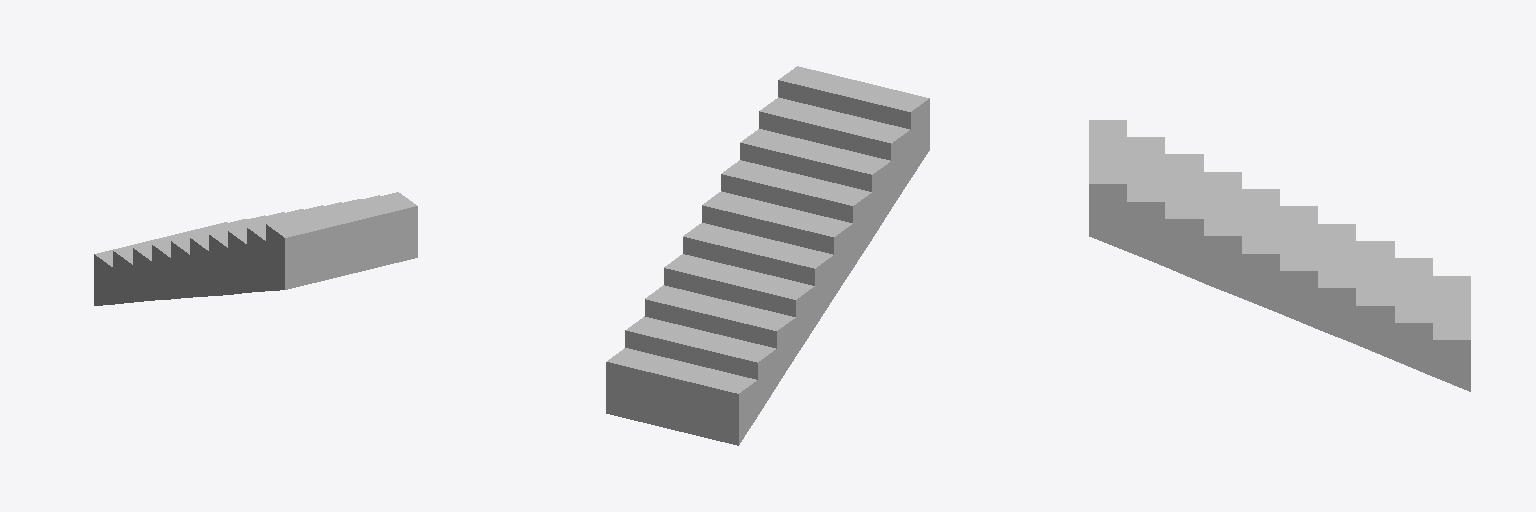
Rendered from Stairs (35).obj.
3 views of the same model, side by side, from view 1: azimuth 30°, elevation 25°; view 2: azimuth 150°, elevation 25°; view 3: azimuth 270°, elevation 25° (orthographic).
Visible parts, largest first — view 1: Stairs (35); view 2: Stairs (35); view 3: Stairs (35).
Part boxes in pixels (bbox=[...]): Stairs (35): bbox=[94, 192, 417, 305]; Stairs (35): bbox=[606, 66, 929, 445]; Stairs (35): bbox=[1089, 120, 1470, 391].
Bounding box in the file's own units: 2 × 3 × 5.